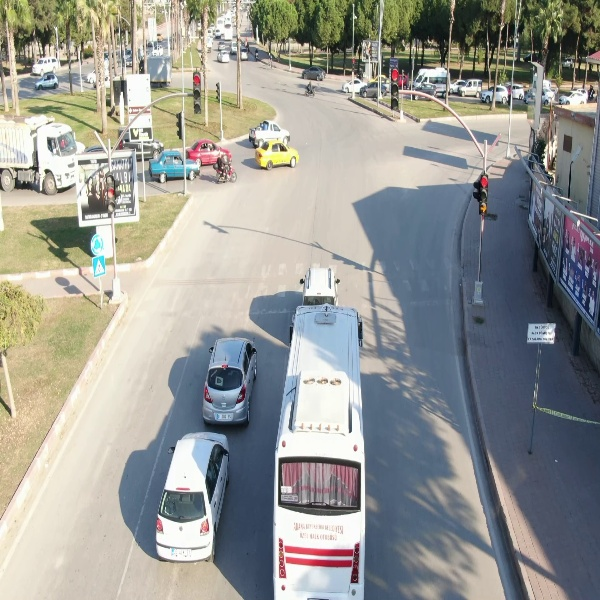car: (154, 430, 231, 563), (198, 334, 258, 428), (148, 148, 201, 186), (255, 139, 299, 172), (455, 77, 485, 98), (481, 84, 512, 103), (558, 88, 590, 106), (32, 71, 59, 92), (298, 64, 329, 82)
